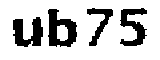5: (117, 5, 152, 49)
7: (84, 6, 114, 47)
b: (44, 7, 77, 49)
u: (8, 14, 44, 49)
